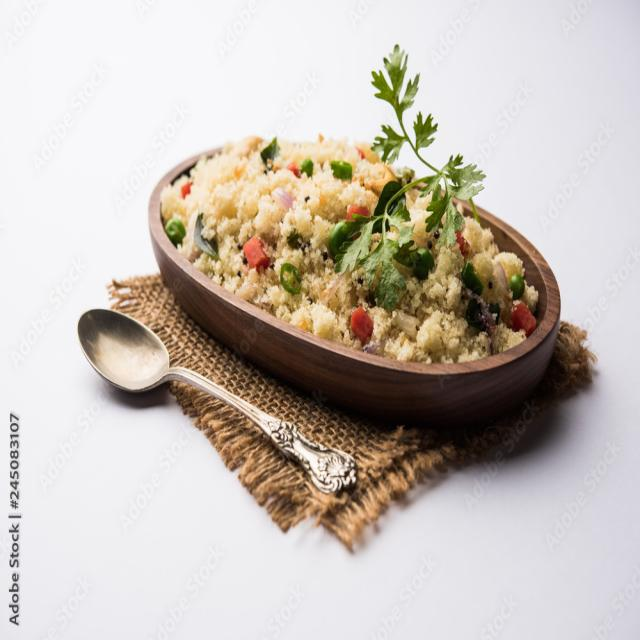UPMA: (161, 138, 538, 363)
